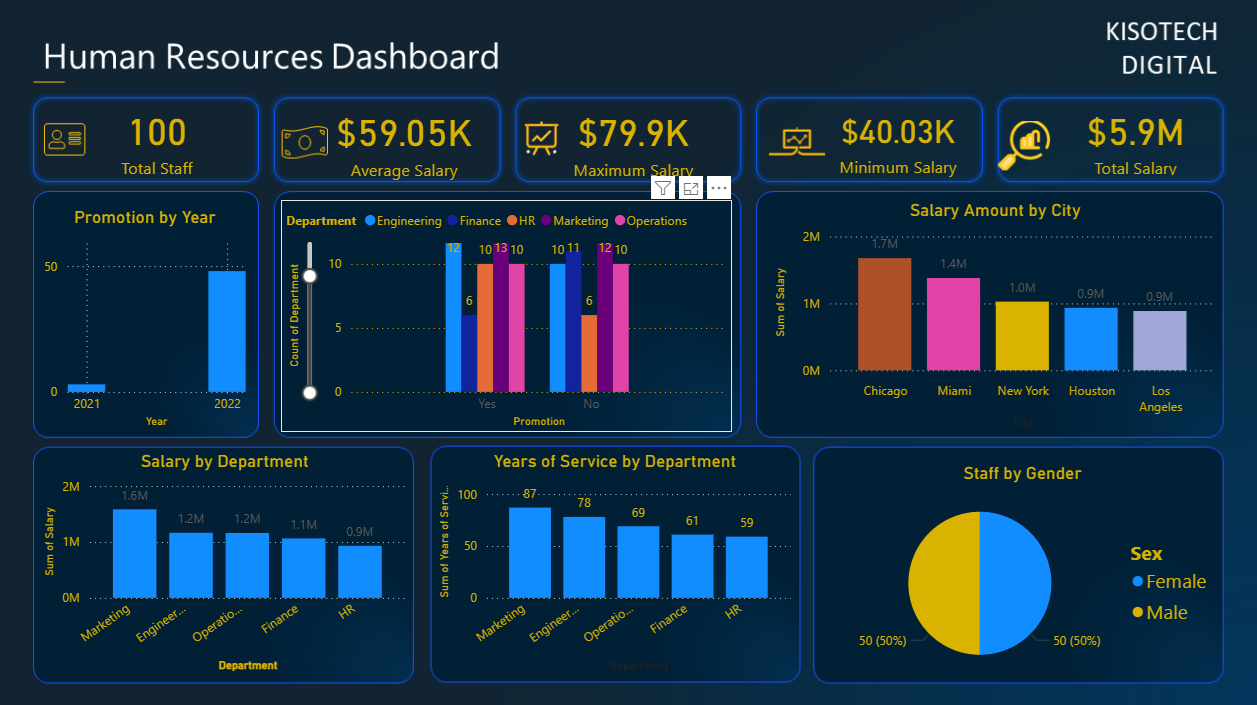

What the dashboard file says about the page in this screenshot:
{"tool":"powerbi","page":{"name":"Page 1","canvas":[1280,720],"ordinal":0},"visuals":[{"type":"image","title":"Staff By Gender","box":[5.4,0,1269.9,720],"z":0},{"type":"pieChart","title":"Staff by Gender","fields":{"Category":["employee_data_updated.Sex"],"Y":["CountNonNull(employee_data_updated.Sex)"]},"box":[831.6,475.6,386.1,215],"z":1000},{"type":"card","title":"Total Satff","fields":{"Values":["employee_data_updated.Total_Staff"]},"box":[91.3,120.9,182.7,79.7],"z":2000},{"type":"card","fields":{"Values":["employee_data_updated.Average_Salary"]},"box":[335.8,116.4,175.5,89.6],"z":3000},{"type":"card","fields":{"Values":["employee_data_updated.Maximum Salary"]},"box":[539.1,116.4,214.9,89.6],"z":4000},{"type":"card","fields":{"Values":["employee_data_updated.Minimum Salary"]},"box":[831.9,116.4,144.2,89.6],"z":5000},{"type":"card","fields":{"Values":["employee_data_updated.Total Salary"]},"box":[1051.3,120.9,166.6,79.7],"z":6000},{"type":"clusteredColumnChart","fields":{"Category":["employee_data_updated.Promotion"],"Series":["employee_data_updated.Department"],"Y":["CountNonNull(employee_data_updated.Department)"]},"box":[303.5,219.8,438.7,225.7],"z":7000},{"type":"clusteredColumnChart","title":"Salary Amount by City","fields":{"Category":["employee_data_updated.City"],"Y":["Sum(employee_data_updated.Salary)"]},"box":[779.1,219.8,438.7,225.7],"z":8000},{"type":"clusteredColumnChart","title":"Salary by Department","fields":{"Category":["employee_data_updated.Department"],"Y":["Sum(employee_data_updated.Salary)"]},"box":[68.1,464,361.8,218.8],"z":9000},{"type":"clusteredColumnChart","title":"Years of Service by Department","fields":{"Y":["Sum(employee_data_updated.Years of Service)"],"Category":["employee_data_updated.Department"]},"box":[452.3,464,352.1,218.8],"z":10000},{"type":"clusteredColumnChart","title":"Promotion by Year","fields":{"Category":["employee_data_updated.Date_of_Promotion.Variation.Date Hierarchy.Year"],"Y":["CountNonNull(employee_data_updated.Promotion)"]},"box":[68.1,226.6,206.2,218.8],"z":11000}]}

Visuals, with their boxes in screenshot pixels (x1, y1, x2, y2), scaled from the page's 1280x720 canvas onto the 1257x705 screenshot:
"Staff By Gender" image: Rect(5, 0, 1252, 704)
"Staff by Gender" pieChart: Rect(817, 466, 1196, 676)
"Total Satff" card: Rect(90, 118, 269, 196)
card - employee_data_updated.Average_Salary: Rect(330, 114, 502, 202)
card - employee_data_updated.Maximum Salary: Rect(529, 114, 740, 202)
card - employee_data_updated.Minimum Salary: Rect(817, 114, 959, 202)
card - employee_data_updated.Total Salary: Rect(1032, 118, 1196, 196)
clusteredColumnChart - employee_data_updated.Promotion x employee_data_updated.Department: Rect(298, 215, 729, 436)
"Salary Amount by City" clusteredColumnChart: Rect(765, 215, 1196, 436)
"Salary by Department" clusteredColumnChart: Rect(67, 454, 422, 669)
"Years of Service by Department" clusteredColumnChart: Rect(444, 454, 790, 669)
"Promotion by Year" clusteredColumnChart: Rect(67, 222, 269, 436)
